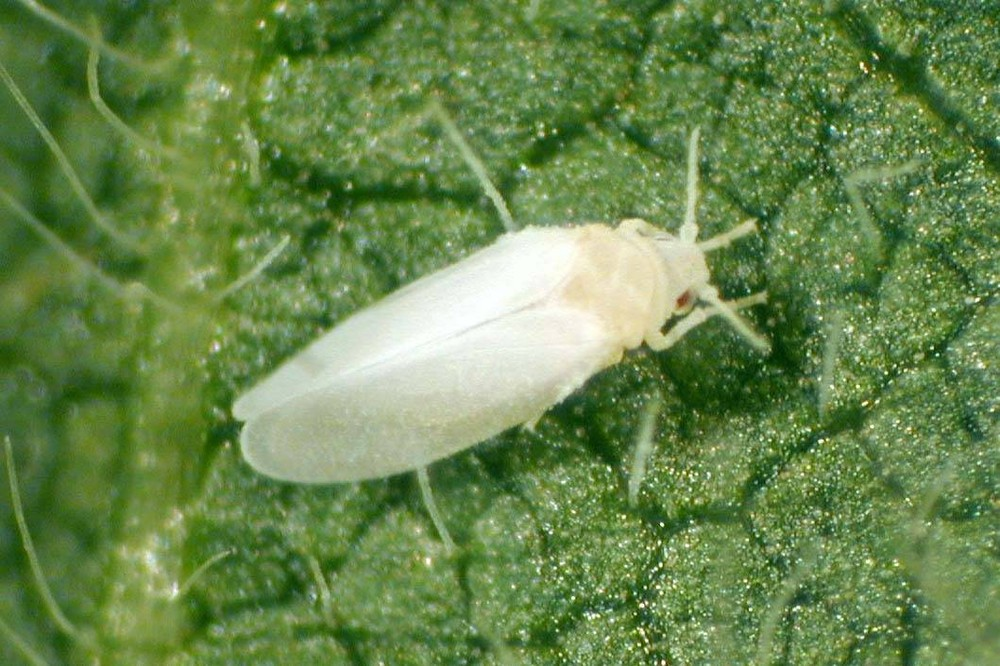Mosca Blanca: (208, 126, 803, 518)
